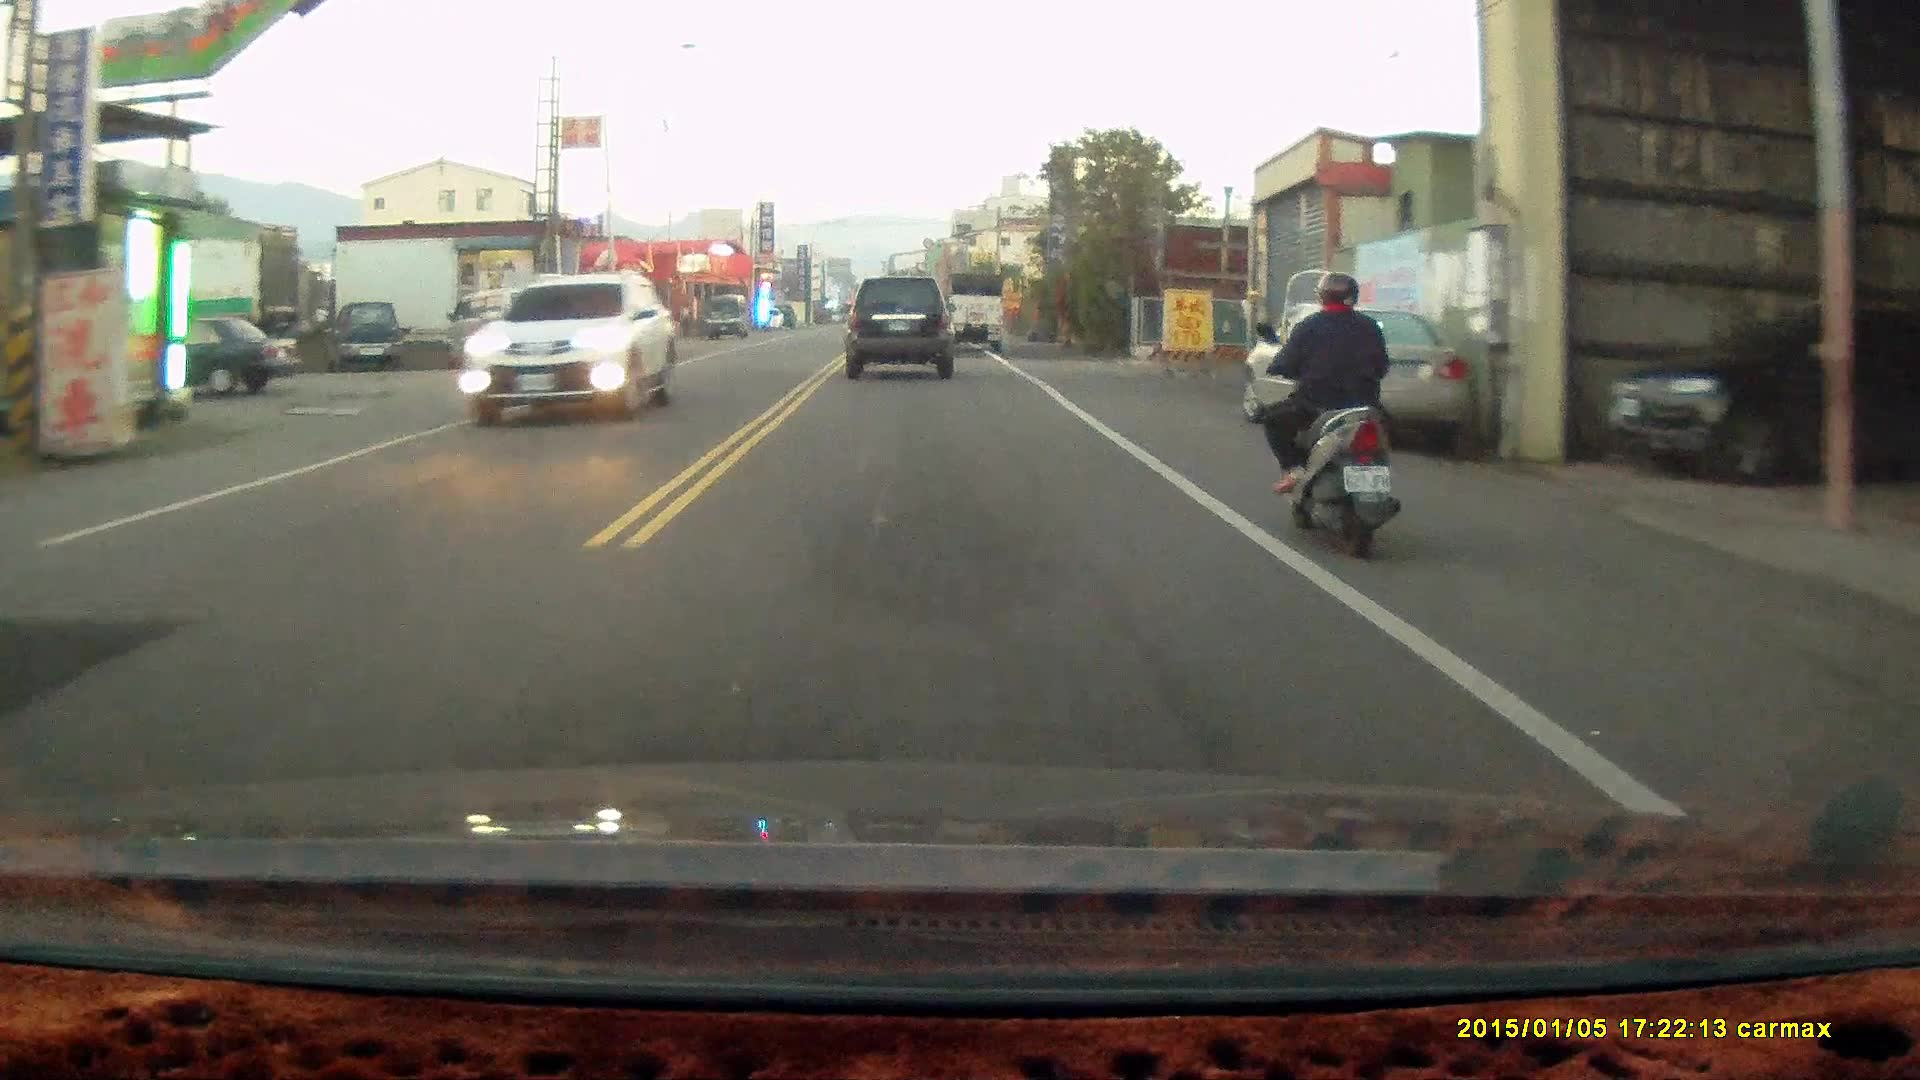rider: (1257, 266, 1403, 558)
vehicle: (1607, 293, 1914, 482), (1237, 305, 1483, 452), (453, 265, 681, 418), (110, 313, 303, 396), (846, 271, 958, 378), (446, 281, 566, 366), (943, 270, 1008, 352), (334, 297, 404, 367)
